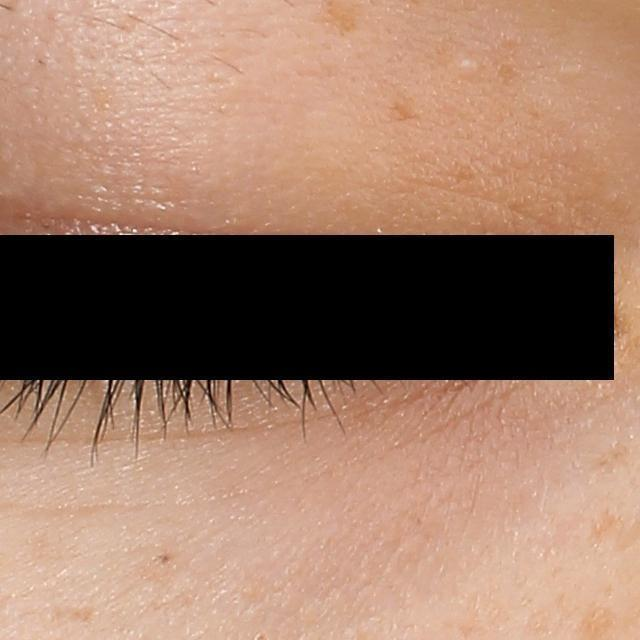melasma: (590, 508, 625, 546), (591, 442, 633, 470), (392, 101, 421, 123)
